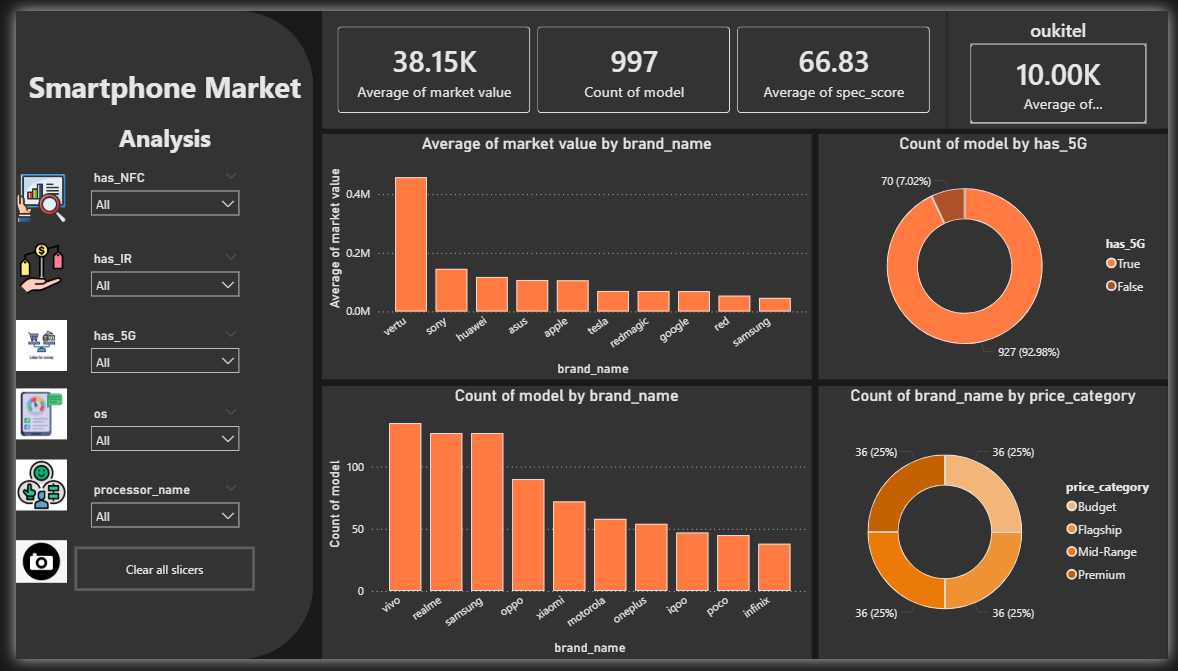

The dashboard page shown, as its layout file describes it:
{"tool":"powerbi","page":{"name":"Market Overview","canvas":[1280,720],"ordinal":0},"visuals":[{"type":"cardVisual","fields":{"Data":["Avg(smartprix_smartphones_april_202.price)","Count(Model.model)","Avg(smartprix_smartphones_april_202.spec_score)"]},"box":[340.4,0,694.2,130.8],"z":1000},{"type":"cardVisual","fields":{"Rows":["Brand.brand_name"],"Data":["Avg(smartprix_smartphones_april_202.battery_capacity(mAh))"]},"box":[1034.6,0,246.2,130.8],"z":2000},{"type":"columnChart","fields":{"Category":["Brand.brand_name"],"Y":["CountNonNull(Model.model)"]},"box":[340.7,416.9,544.1,303.4],"z":3000},{"type":"donutChart","fields":{"Y":["Count(Brand.brand_name)"],"Category":["Price Category.price_category"]},"box":[891.5,416.9,388.1,303.4],"z":4000},{"type":"donutChart","fields":{"Y":["Count(Model.model)"],"Category":["Has 5G.has_5G"]},"box":[891.5,137.3,388.1,272.9],"z":5000},{"type":"clusteredColumnChart","fields":{"Y":["Avg(smartprix_smartphones_april_202.market value)"],"Category":["Brand.brand_name"]},"box":[340.7,137.3,544.1,272.9],"z":6000},{"type":"shape","box":[0,0,330.3,720.6],"z":6500,"group":"g1"},{"type":"textbox","box":[0,57.3,330.8,114.5],"z":7000,"group":"g1"},{"type":"slicer","fields":{"Values":["Has NFC.has_NFC"]},"box":[73.2,171.8,184.5,70],"z":8000,"group":"g1"},{"type":"slicer","fields":{"Values":["Has IR.has_IR"]},"box":[73.2,260.9,184.5,68.4],"z":9000,"group":"g1"},{"type":"slicer","fields":{"Values":["Has 5G.has_5G"]},"box":[73.2,346.8,184.5,70],"z":10000,"group":"g1"},{"type":"slicer","fields":{"Values":["OS.os"]},"box":[73.2,432.6,184.5,70],"z":11000,"group":"g1"},{"type":"slicer","fields":{"Values":["Processor Name.processor_name"]},"box":[73.2,518.5,184.5,76.3],"z":12000,"group":"g1"},{"type":"actionButton","box":[65.2,594.9,200.4,49.3],"z":13000,"group":"g1"},{"type":"image","box":[0,173.3,56.7,68.3],"z":15000,"group":"g1"},{"type":"image","box":[0,310,56.7,123.3],"z":16000,"group":"g1"},{"type":"image","box":[0,241.7,56.7,88.3],"z":17000,"group":"g1"},{"type":"image","box":[0,410,56.7,75],"z":18000,"group":"g1"},{"type":"image","box":[0,485,56.7,83.3],"z":19000,"group":"g1"},{"type":"image","box":[0,556.7,56.7,110],"z":20000,"group":"g1"},{"type":"group","id":"g1","title":"Group 1","box":[0,0,330.8,720.6],"z":20001},{"type":"pageNavigator","box":[0,173.3,56.7,473.3],"z":20500,"group":"g1"}]}

Visuals, with their boxes in screenshot pixels (x1, y1, x2, y2), scaled from the page's 1280x720 canvas onto the 1178x671 screenshot:
cardVisual - Avg(smartprix_smartphones_april_202.price) x Count(Model.model): region(313, 0, 952, 122)
cardVisual - Brand.brand_name x Avg(smartprix_smartphones_april_202.battery_capacity(mAh)): region(952, 0, 1177, 122)
columnChart - Brand.brand_name x CountNonNull(Model.model): region(314, 389, 814, 670)
donutChart - Count(Brand.brand_name) x Price Category.price_category: region(820, 389, 1177, 670)
donutChart - Count(Model.model) x Has 5G.has_5G: region(820, 128, 1177, 382)
clusteredColumnChart - Avg(smartprix_smartphones_april_202.market value) x Brand.brand_name: region(314, 128, 814, 382)
shape: region(0, 0, 304, 670)
textbox: region(0, 53, 304, 160)
slicer - Has NFC.has_NFC: region(67, 160, 237, 225)
slicer - Has IR.has_IR: region(67, 243, 237, 307)
slicer - Has 5G.has_5G: region(67, 323, 237, 388)
slicer - OS.os: region(67, 403, 237, 468)
slicer - Processor Name.processor_name: region(67, 483, 237, 554)
actionButton: region(60, 554, 244, 600)
image: region(0, 162, 52, 225)
image: region(0, 289, 52, 404)
image: region(0, 225, 52, 308)
image: region(0, 382, 52, 452)
image: region(0, 452, 52, 530)
image: region(0, 519, 52, 621)
"Group 1" group: region(0, 0, 304, 670)
pageNavigator: region(0, 162, 52, 603)
